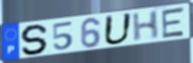5: (51, 20, 74, 52)
6: (79, 16, 102, 50)
E: (161, 5, 187, 39)
H: (131, 9, 160, 43)
S: (20, 23, 51, 56)
U: (102, 12, 134, 47)
